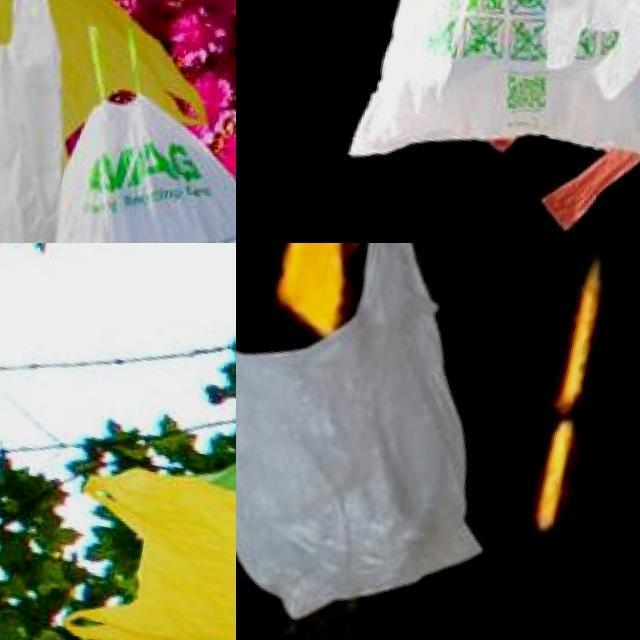waste: (236, 243, 547, 640), (343, 0, 640, 224), (4, 79, 236, 243), (52, 455, 236, 640), (0, 0, 111, 243), (539, 0, 640, 117)
